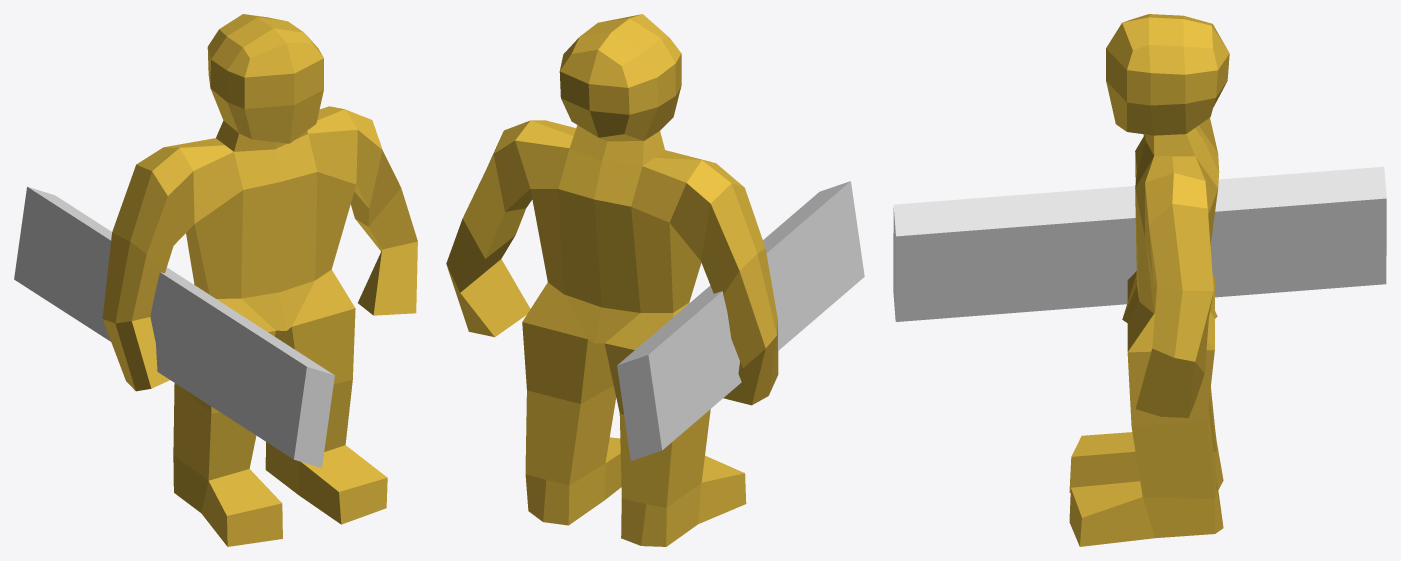
The model's file is engineer.glb.
3 views of the same model, side by side, from view 1: azimuth 30°, elevation 25°; view 2: azimuth 150°, elevation 25°; view 3: azimuth 270°, elevation 25° (orthographic). The views are drawn at different scales.
Visible parts, largest first — view 1: Cube.001, Cube; view 2: Cube.001, Cube; view 3: Cube.001, Cube.
Boxes of the visible parts, left/top/right/bottom form: Cube.001: left=102, top=14, right=417, bottom=546; Cube: left=14, top=186, right=334, bottom=467; Cube.001: left=446, top=14, right=778, bottom=546; Cube: left=617, top=181, right=864, bottom=460; Cube.001: left=1069, top=14, right=1229, bottom=546; Cube: left=893, top=166, right=1386, bottom=321.
Size of the model in its own units: 1.44 by 2.14 by 1.95.
